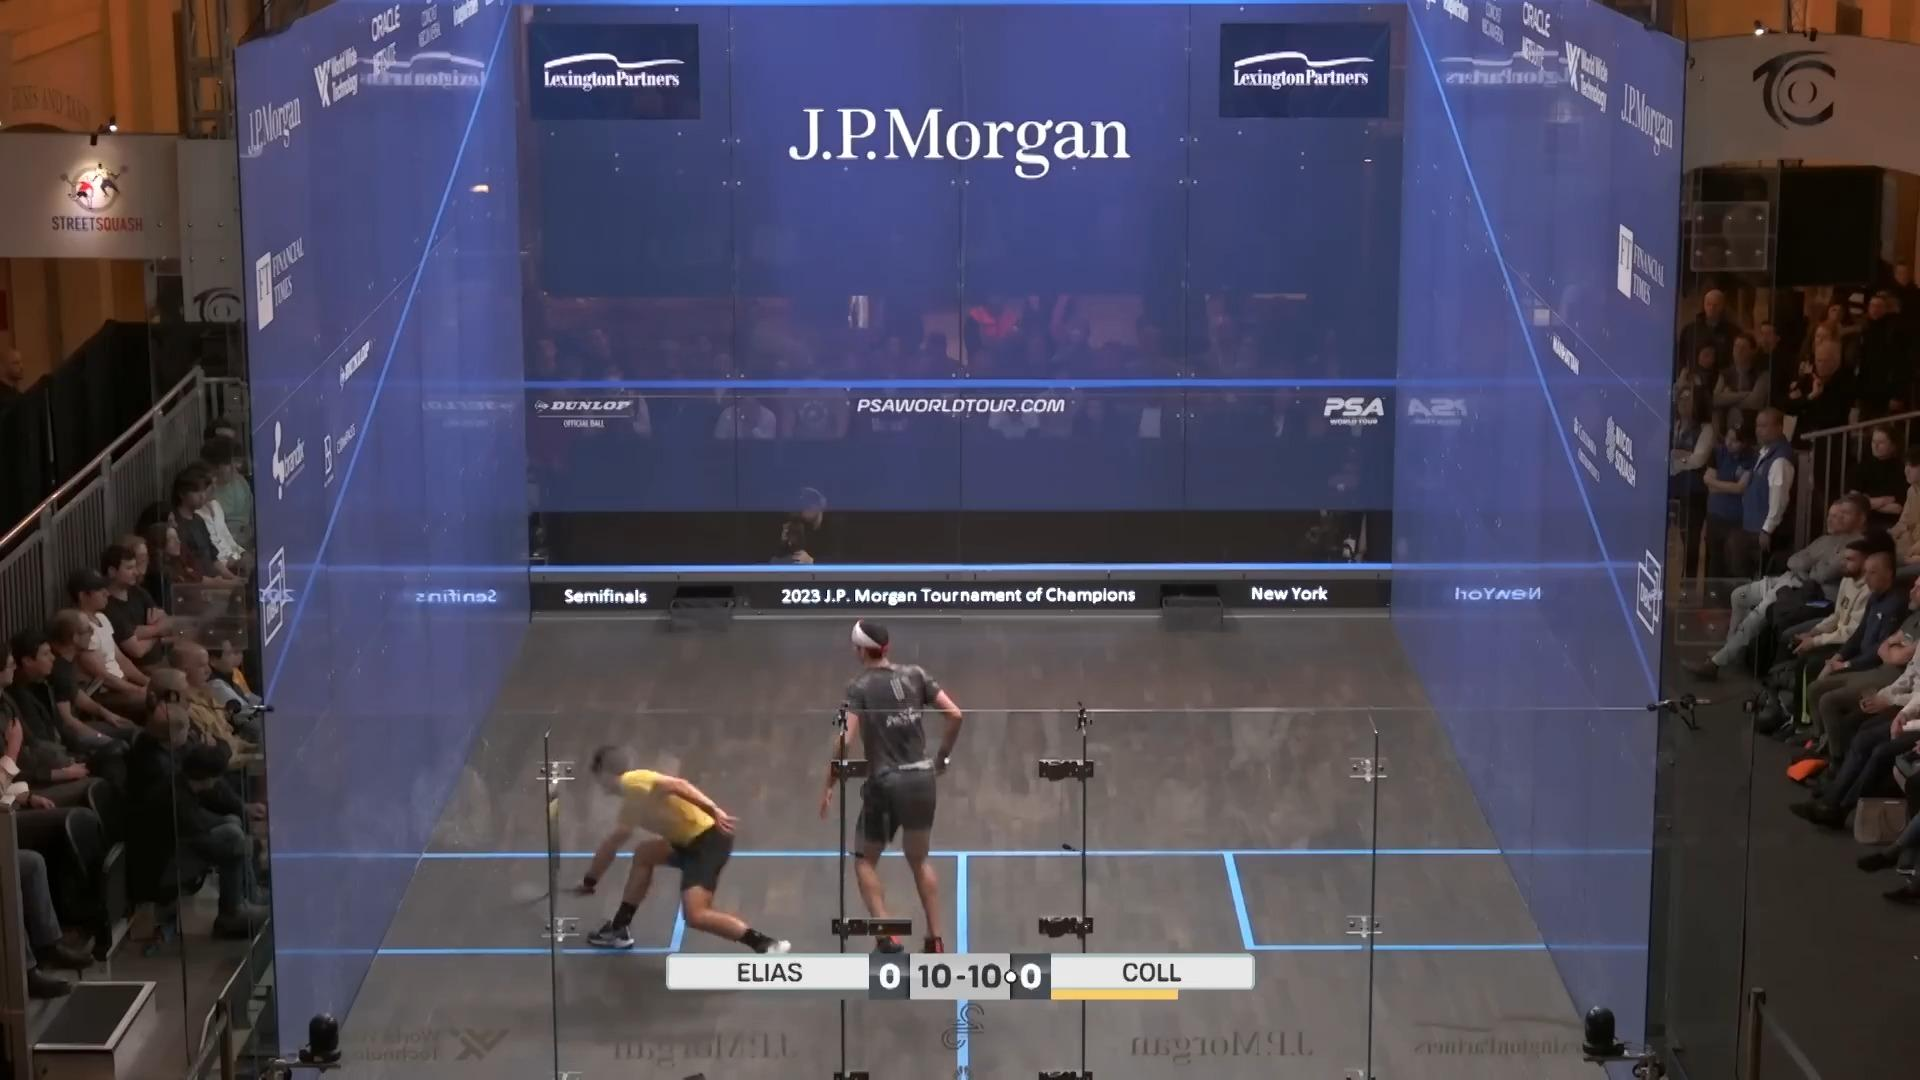Racket: (498, 870, 588, 916)
